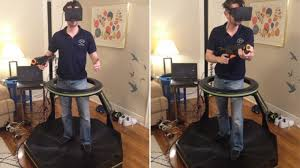oculus: (224, 4, 257, 24)
